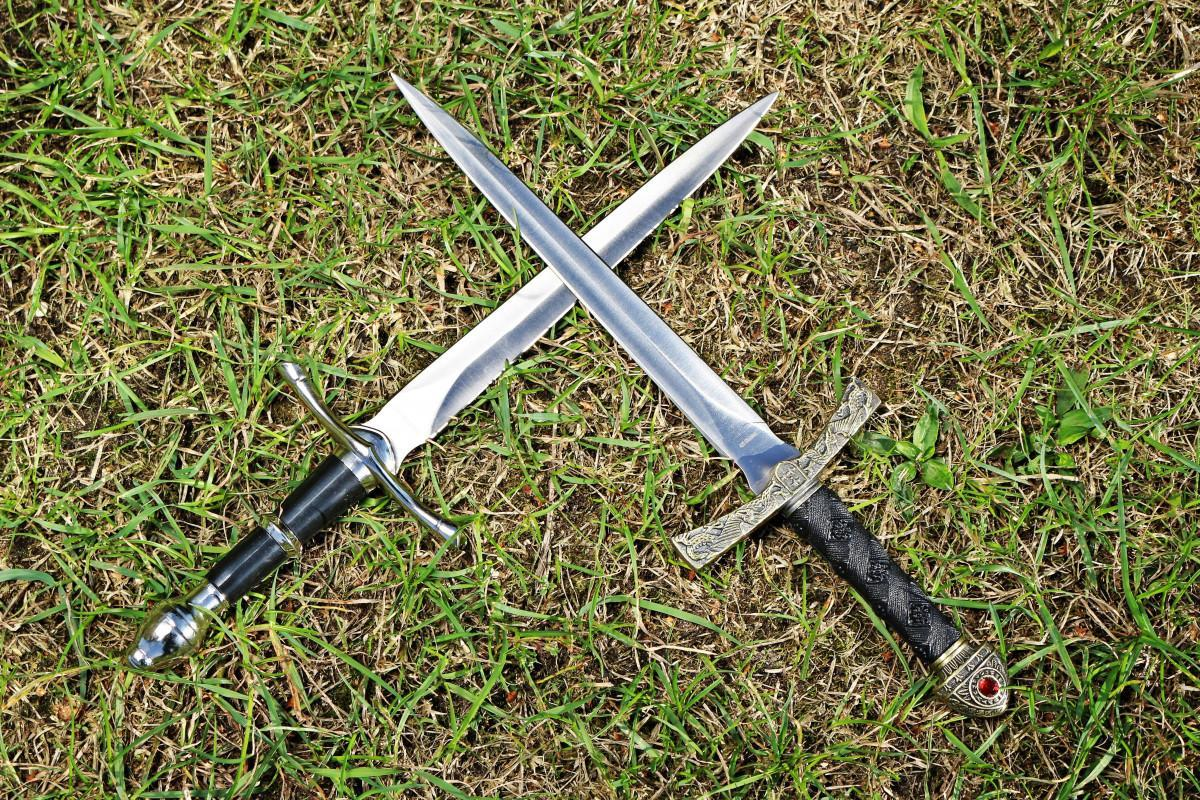espada: (361, 28, 1040, 746), (83, 59, 824, 672)
